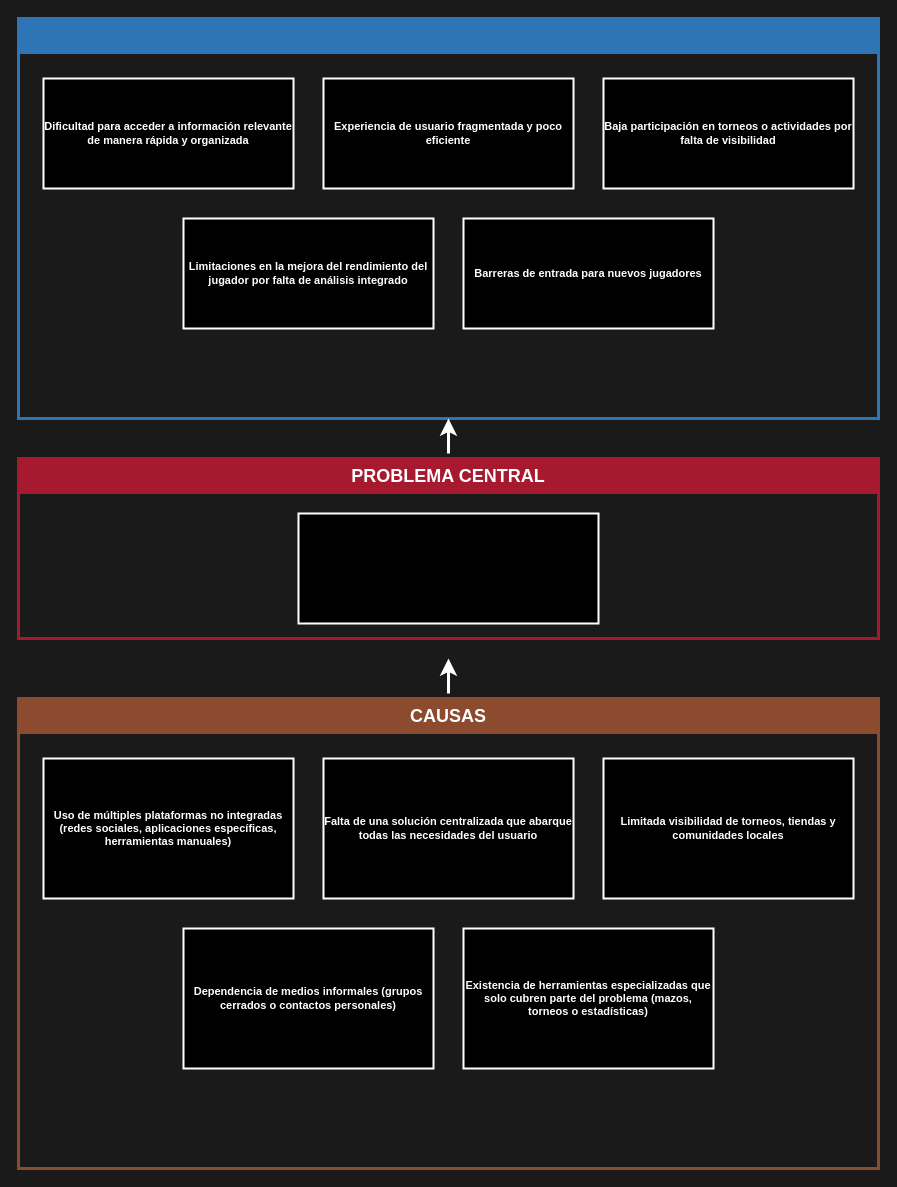
Image size: 897x1187. Some labels were removed from this diagram. The centre of each missing label's shape, as x and y in pixels:
"EFECTOS" belongs at (x=448, y=36).
"Fragmentación de herramientas e información dentro del ecosistema TCG" belongs at (x=448, y=568).
